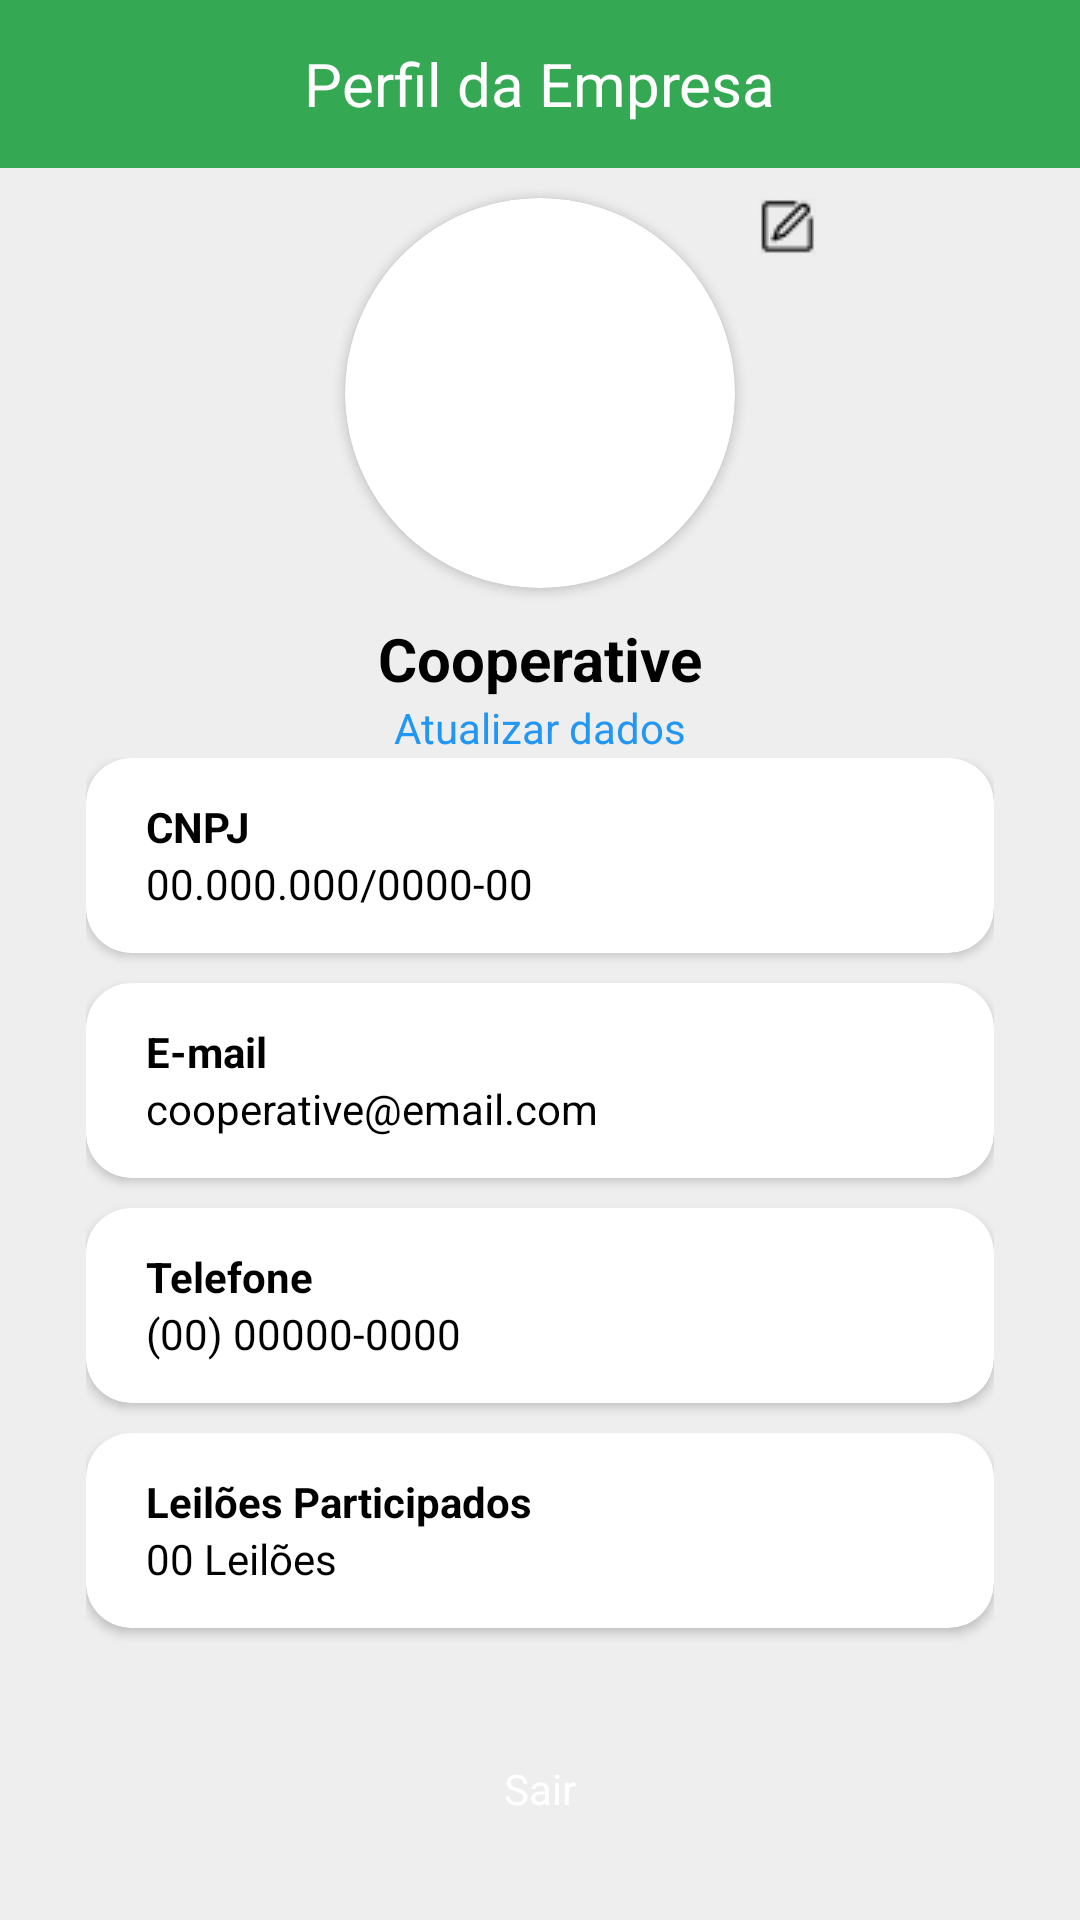

Where icons sit on this 1080 x 1920 app screen, as (x1, y1, x2, y2):
imgpenedit: (761, 200, 814, 253)
